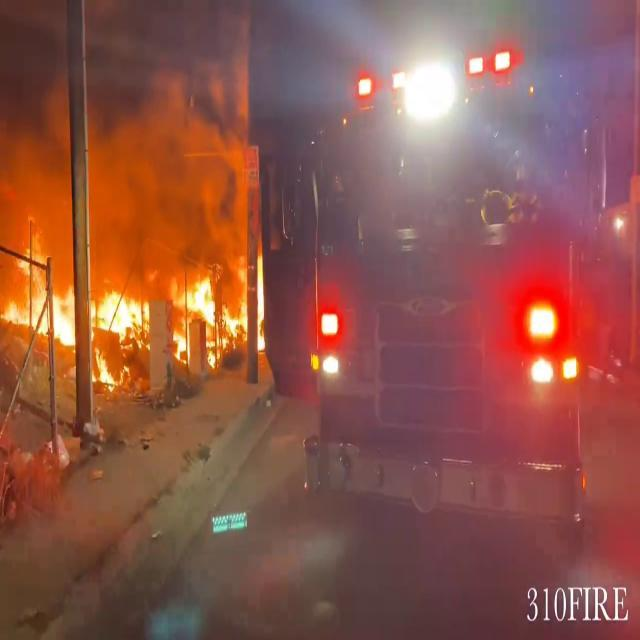Fire: (0, 241, 264, 383)
Smoke: (0, 4, 256, 262)
